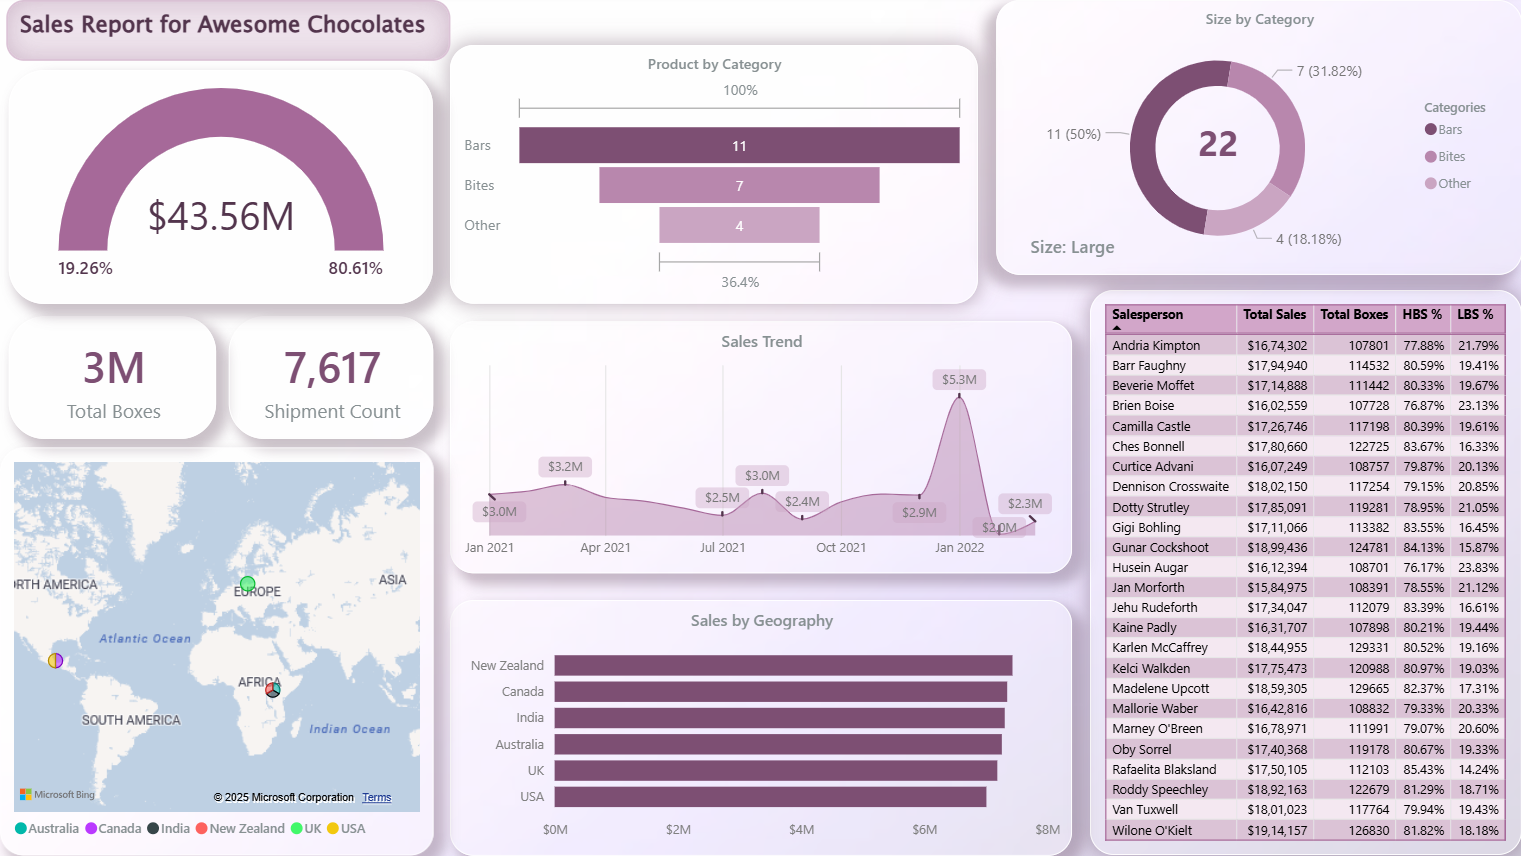

What the dashboard file says about the page in this screenshot:
{"tool":"powerbi","page":{"name":"Page 1","canvas":[1280,720],"ordinal":0},"visuals":[{"type":"card","fields":{"Values":["Sales.Total Boxes"]},"box":[7.8,265.6,174.4,103.3],"z":0},{"type":"card","fields":{"Values":["Sales.Shipment Count"]},"box":[192.2,265.6,172.2,103.3],"z":1000},{"type":"tableEx","fields":{"Values":["People.Salesperson","Sales.Total Sales","Sales.Total Boxes","Sales.HBS %","Sales.LBS %"]},"box":[916.7,244.4,363.3,475.6],"z":2000},{"type":"clusteredBarChart","title":"Sales by Geography","fields":{"Category":["Geo.Geo"],"Y":["Sales.Total Sales"]},"box":[378.9,504.4,523.3,215.6],"z":3000},{"type":"lineChart","title":"Sales Trend","fields":{"Y":["Sales.Total Sales"],"Category":["Sales.SaleDate.Variation.Date Hierarchy.Year","Sales.SaleDate.Variation.Date Hierarchy.Month"]},"box":[378.9,270,523.3,212.2],"z":4000},{"type":"map","fields":{"Series":["Geo.Geo"],"Category":["Geo.Region"]},"box":[0,376.7,364.4,343.3],"z":5000},{"type":"donutChart","title":"Size by Category","fields":{"Category":["Products.Category"],"Y":["Products.Size"]},"box":[837.8,0,442.2,231.1],"z":6000},{"type":"gauge","fields":{"MaxValue":["Sales.HBS %"],"MinValue":["Sales.LBS %"],"Y":["Sales.Total Sales"]},"box":[7.8,58.9,356.7,196.7],"z":7000},{"type":"funnel","title":"Product by Category","fields":{"Category":["Products.Category"],"Y":["Products.Product"]},"box":[378.5,37.9,443.7,217.6],"z":8000},{"type":"textbox","title":"Sales Report for Awesome Chocolates","box":[5.3,0,373.2,51.5],"z":9000},{"type":"cardVisual","fields":{"Data":["Products.Count size"]},"box":[974.4,61.1,100,108.9],"z":10000},{"type":"shape","box":[851.1,183.3,103.3,47.8],"z":11000}]}

Visuals, with their boxes in screenshot pixels (x1, y1, x2, y2), scaled from the page's 1280x720 canvas onto the 1521x856 screenshot:
card - Sales.Total Boxes: 9 316 217 439
card - Sales.Shipment Count: 228 316 433 439
tableEx - People.Salesperson x Sales.Total Sales: 1089 291 1520 855
"Sales by Geography" clusteredBarChart: 450 600 1072 855
"Sales Trend" lineChart: 450 321 1072 573
map - Geo.Geo x Geo.Region: 0 448 433 855
"Size by Category" donutChart: 996 0 1520 275
gauge - Sales.HBS % x Sales.LBS %: 9 70 433 304
"Product by Category" funnel: 450 45 977 304
"Sales Report for Awesome Chocolates" textbox: 6 0 450 61
cardVisual - Products.Count size: 1158 73 1277 202
shape: 1011 218 1134 275
